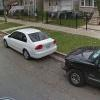Car: (2, 17, 60, 64)
